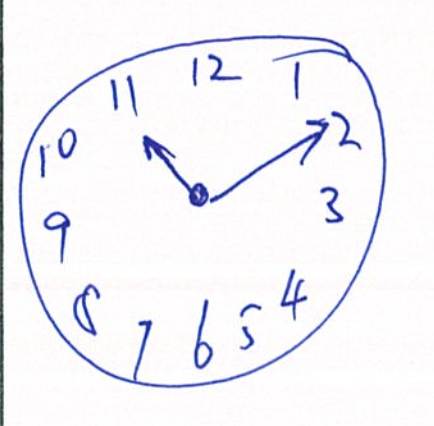1: (290, 57, 306, 103)
10: (30, 127, 85, 177)
11: (109, 73, 141, 118)
12: (187, 53, 243, 87)
2: (327, 111, 364, 152)
3: (318, 184, 345, 227)
4: (278, 262, 310, 322)
5: (235, 302, 263, 353)
6: (191, 298, 218, 371)
7: (131, 315, 153, 383)
8: (70, 279, 101, 337)
9: (41, 208, 72, 267)
contour: (14, 32, 390, 394)
hand: (140, 119, 323, 207)
top_left_arrow: (141, 133, 191, 195)
top_right_arrow: (208, 118, 329, 205)
